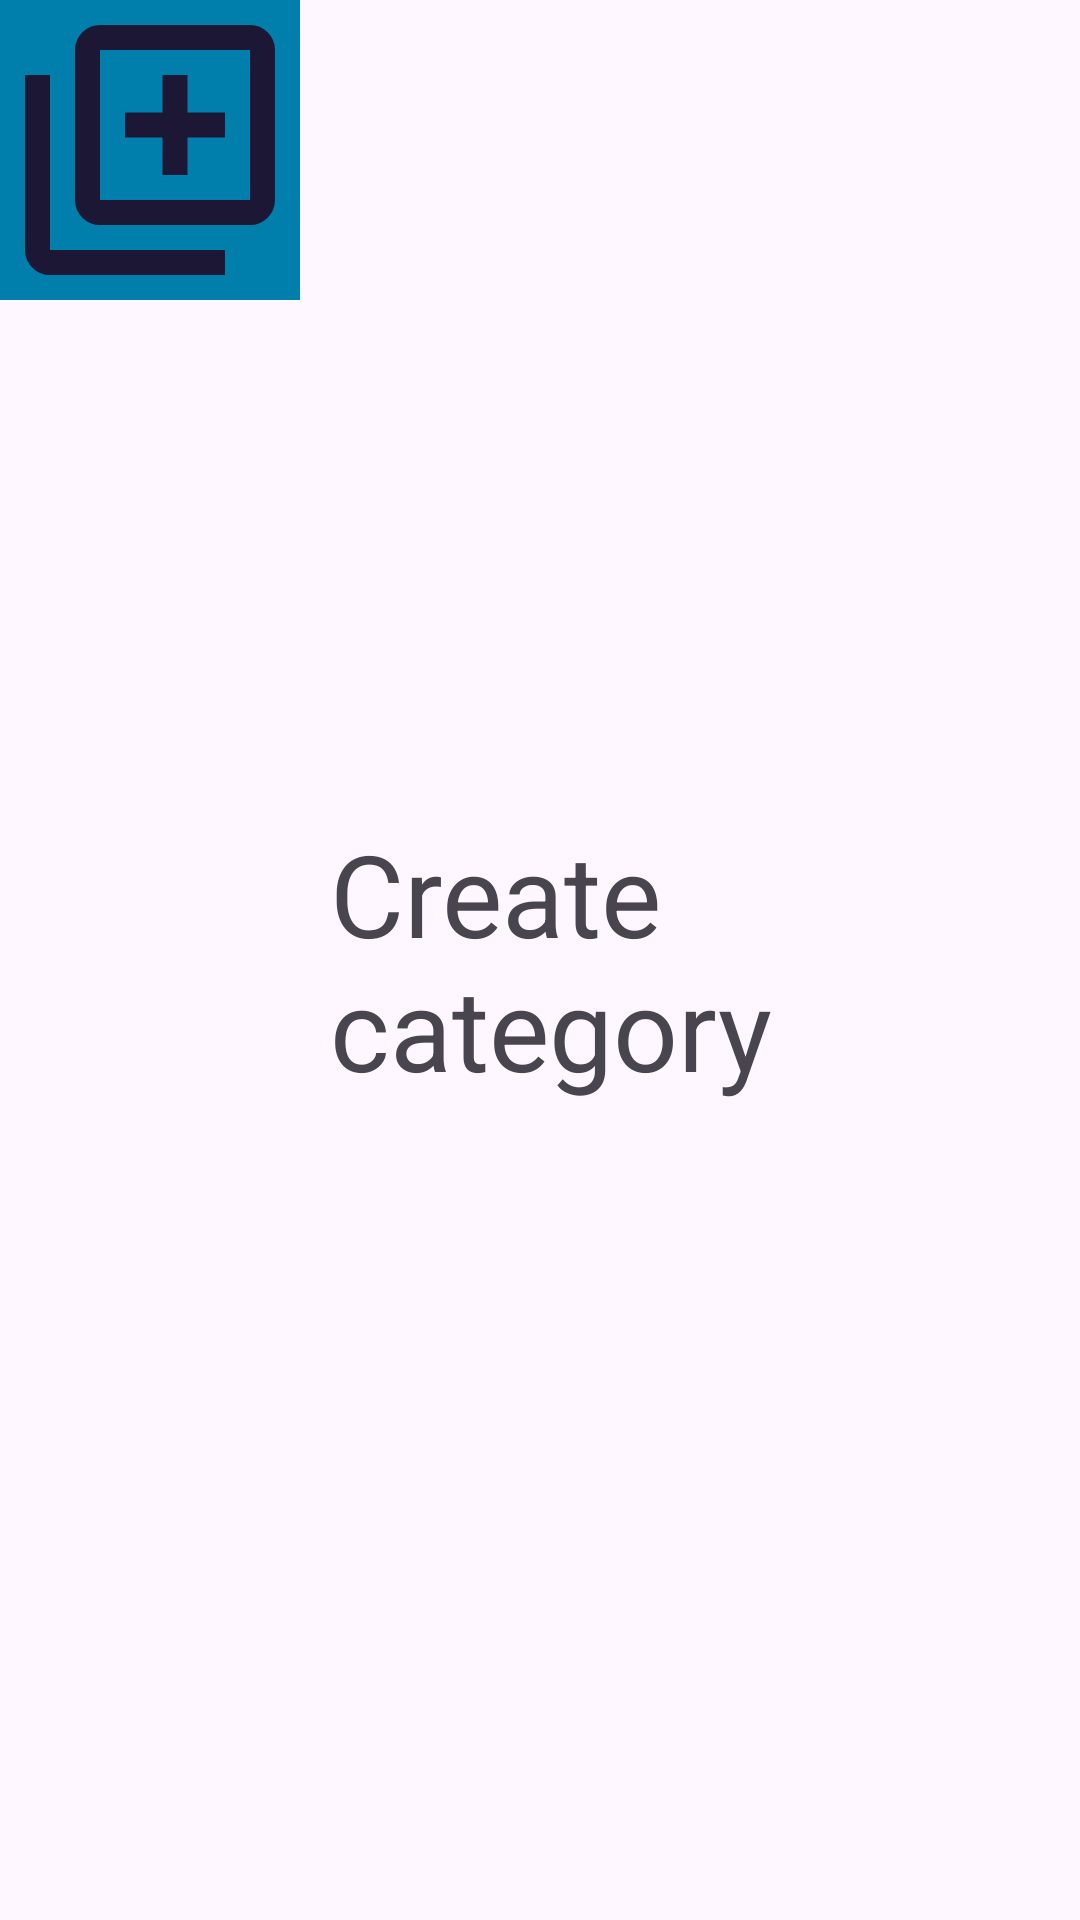

Screen size 1080*1920. Icon name, then its box in pixels as (x1, y1, x2, y2):
Create new category: (0, 0, 300, 300)
